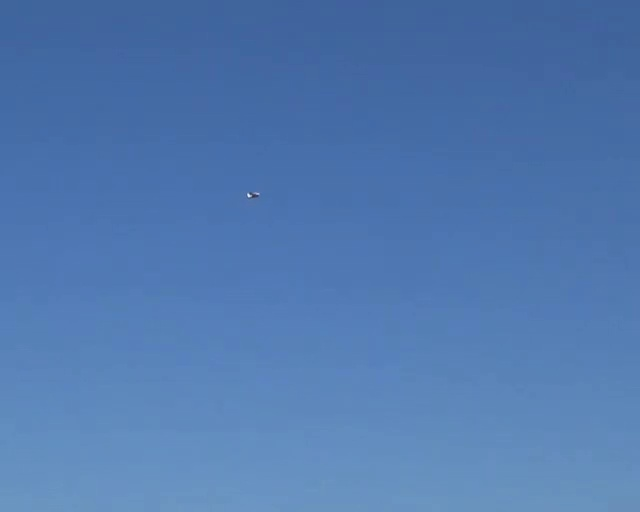AIRPLANE: (246, 191, 260, 199)
